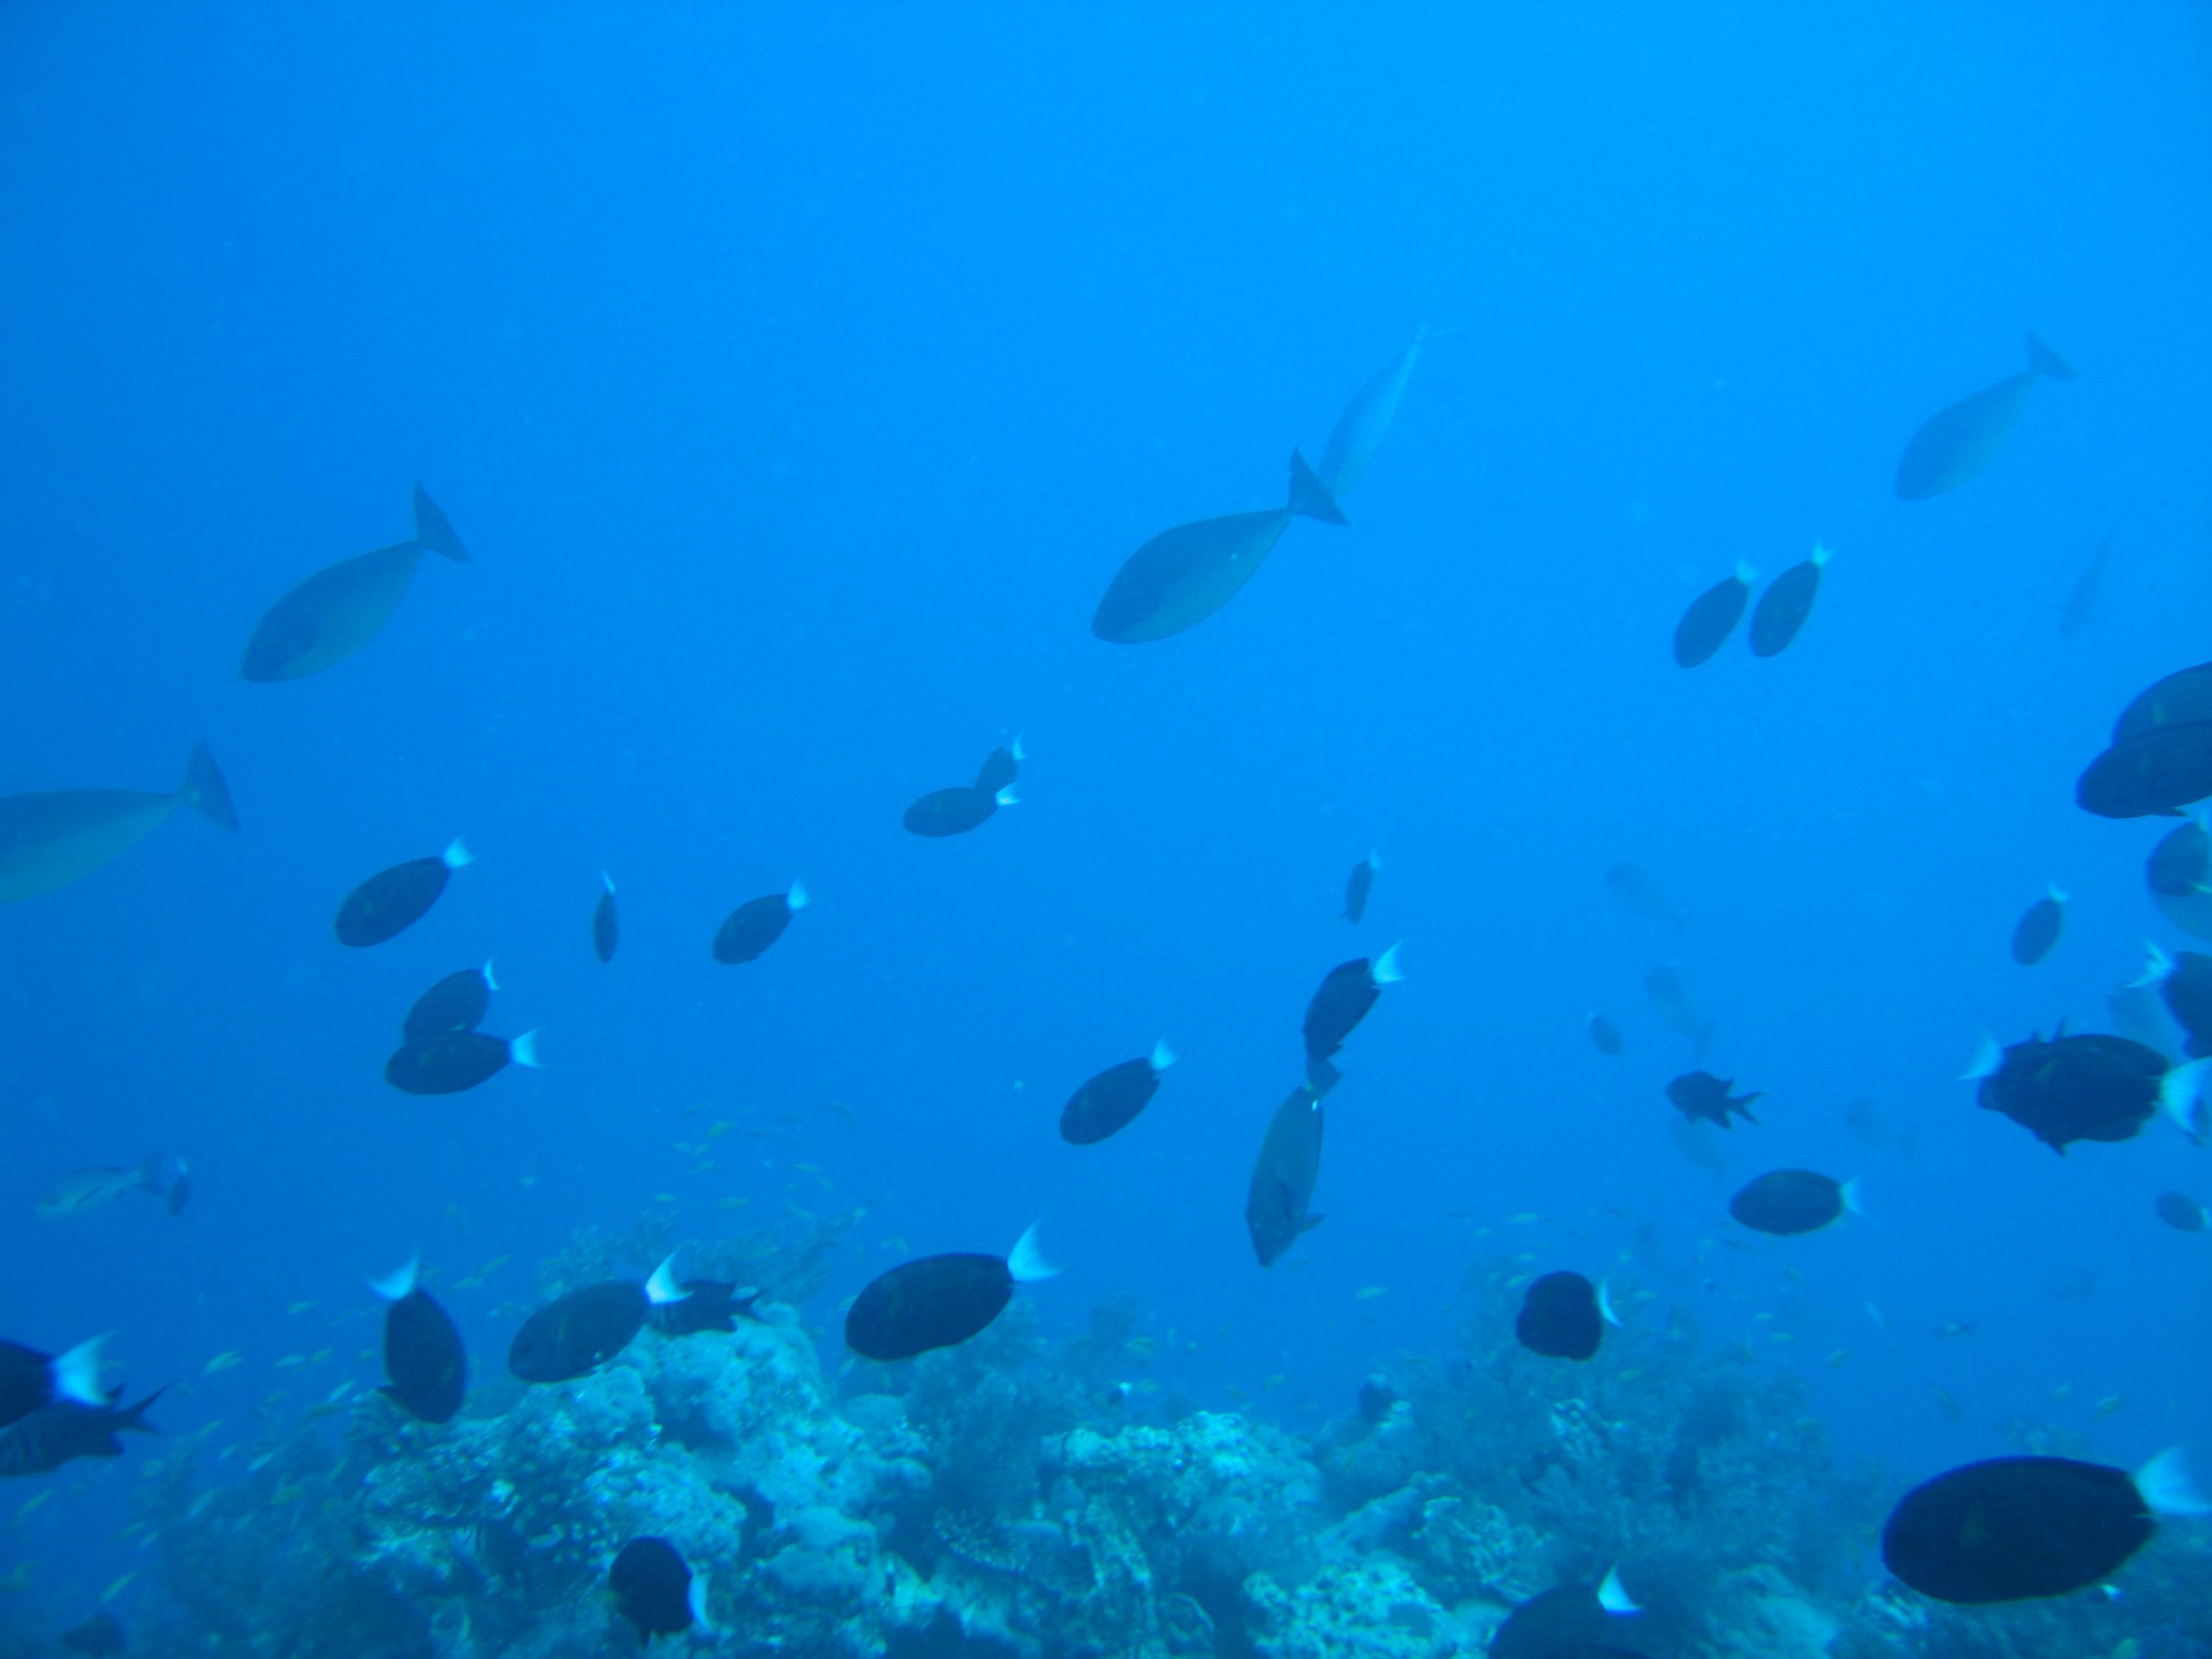Naso hexacanthus: (1071, 408, 1362, 664), (1858, 1420, 2209, 1619), (223, 469, 517, 695), (822, 1201, 1069, 1412), (1867, 303, 2101, 509), (507, 1239, 691, 1403), (341, 1244, 482, 1432), (314, 819, 493, 958), (1282, 910, 1421, 1077), (1696, 1148, 1898, 1262), (1042, 1023, 1205, 1152), (359, 1012, 582, 1107), (1482, 1265, 1629, 1385), (1745, 526, 1853, 683), (705, 859, 819, 981), (895, 762, 1026, 854)
